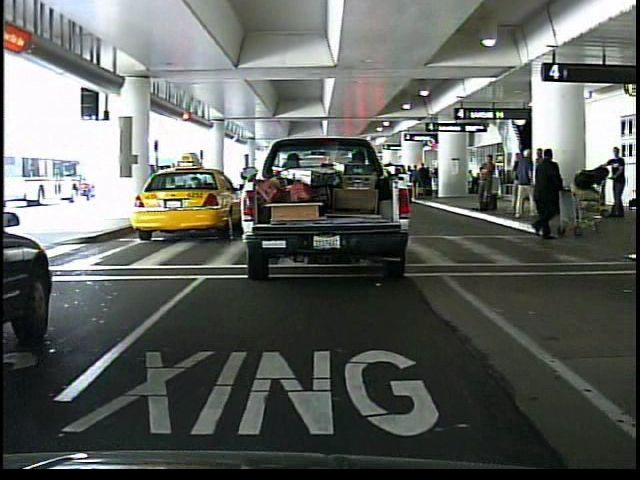person: (525, 148, 566, 241), (603, 143, 632, 220), (514, 146, 534, 221)
